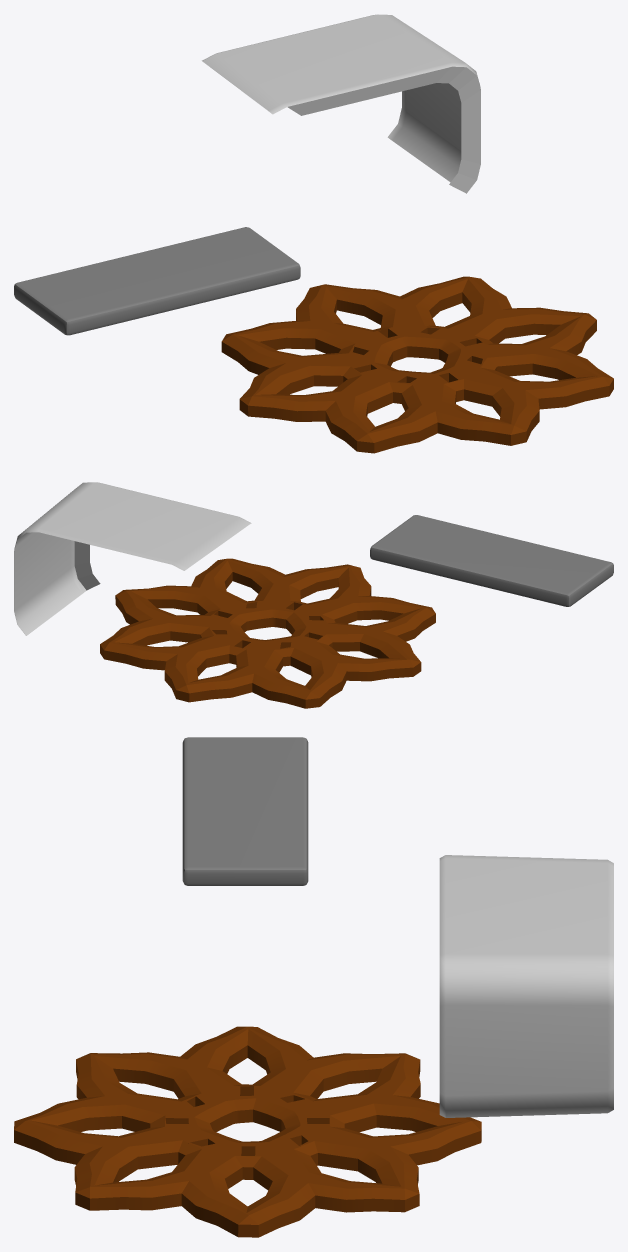
3 views of the same model, one above another, from view 1: azimuth 30°, elevation 25°; view 2: azimuth 150°, elevation 25°; view 3: azimuth 270°, elevation 25° (orthographic). The views are drawn at different scales.
Parts seen in each view (by area): view 1: textureEditorIsolateSelectSet Rug, textureEditorIsolateSelectSet polySurface1 Sink1, textureEditorIsolateSelectSet TubPlate; view 2: textureEditorIsolateSelectSet Rug, textureEditorIsolateSelectSet polySurface1 Sink1, textureEditorIsolateSelectSet TubPlate; view 3: textureEditorIsolateSelectSet Rug, textureEditorIsolateSelectSet polySurface1 Sink1, textureEditorIsolateSelectSet TubPlate.
Part boxes in pixels (x1,y1,x2,y2): textureEditorIsolateSelectSet Rug: [221, 276, 613, 453]; textureEditorIsolateSelectSet polySurface1 Sink1: [202, 14, 480, 193]; textureEditorIsolateSelectSet TubPlate: [14, 227, 300, 335]; textureEditorIsolateSelectSet Rug: [100, 558, 435, 708]; textureEditorIsolateSelectSet polySurface1 Sink1: [14, 482, 251, 635]; textureEditorIsolateSelectSet TubPlate: [370, 515, 613, 606]; textureEditorIsolateSelectSet Rug: [14, 1026, 481, 1237]; textureEditorIsolateSelectSet polySurface1 Sink1: [439, 855, 613, 1117]; textureEditorIsolateSelectSet TubPlate: [182, 737, 308, 885].
Bounding box in the file's own units: 5.92 × 2.21 × 4.78.
